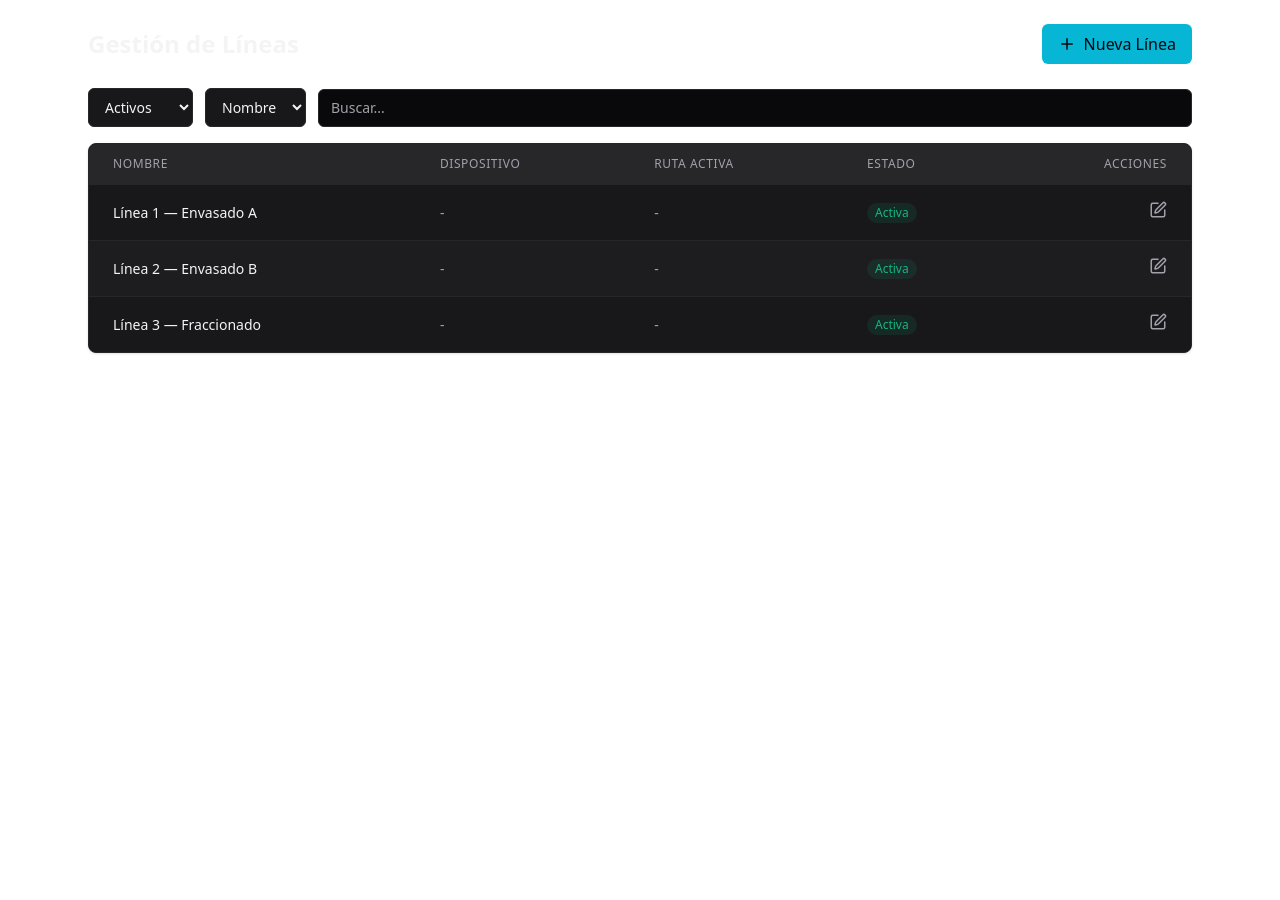
it: LineasPage › "Activar Línea" button is NOT visible when editing an active linea
The image size is (1280, 900).
Expected: the text "Línea 1 — Envasado A" is shown, [89,184,416,240]
Click the button titled "Editar" in the row of "Línea 1 — Envasado A": x=1158, y=210 [1149,201,1167,219]
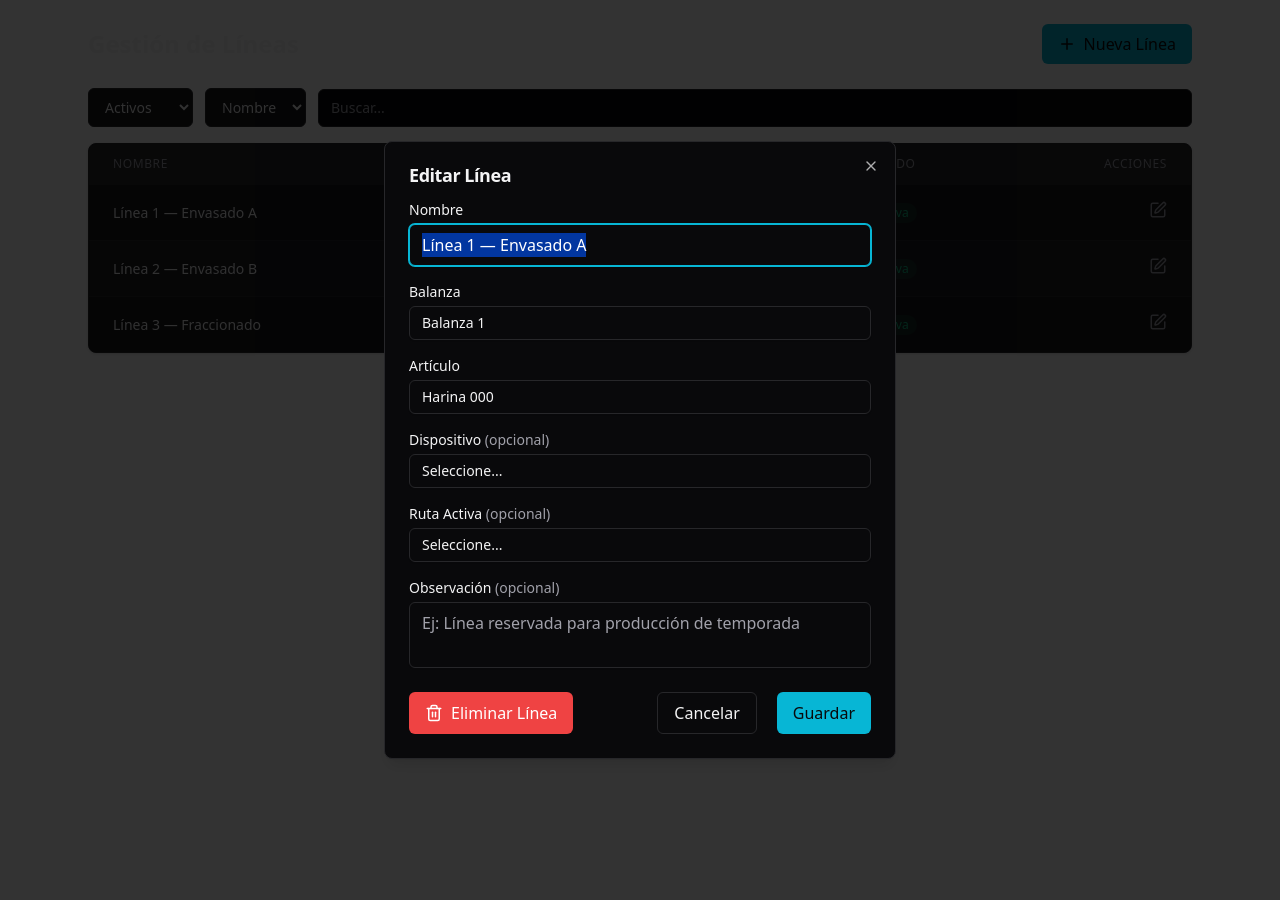
Now the heading "Editar Línea" is shown, box [409,163,511,187]
